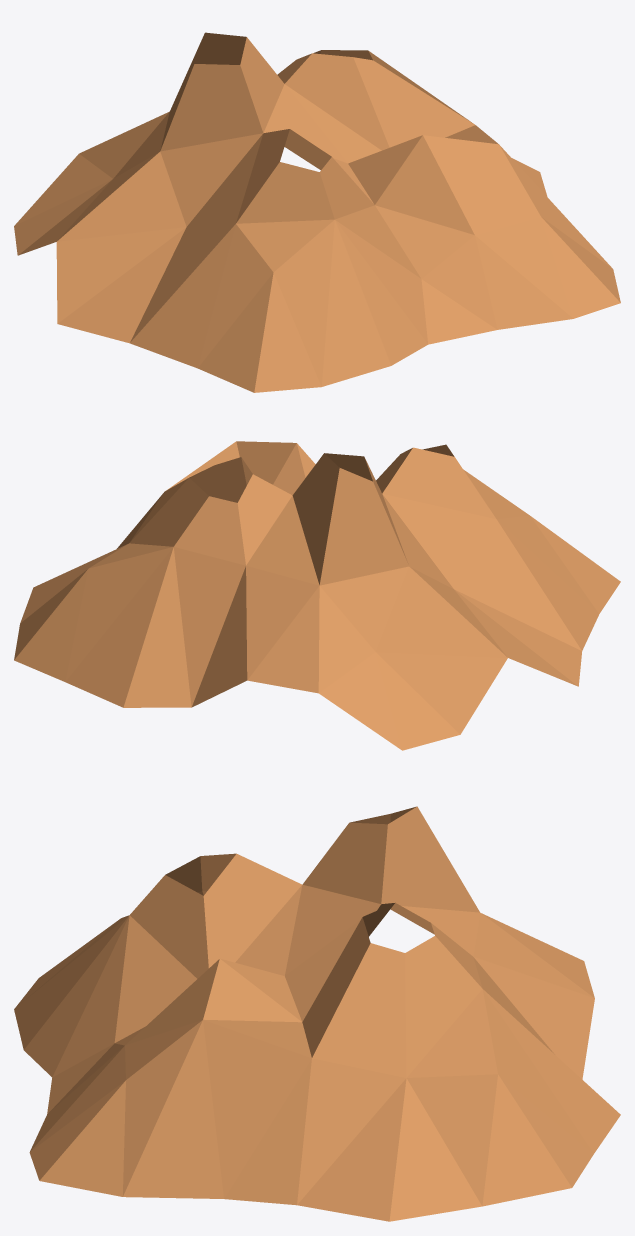
File: Hill02.obj
3 renders of one model, top to bottom at view 1: azimuth 30°, elevation 25°; view 2: azimuth 150°, elevation 25°; view 3: azimuth 270°, elevation 25°, orthographic. The views are drawn at different scales.
Parts seen in each view (by area): view 1: Hill02; view 2: Hill02; view 3: Hill02.
Part boxes in pixels (x1,y1,x2,y2): Hill02: (14,32,620,392); Hill02: (14,441,620,750); Hill02: (14,806,620,1221).
Bounding box in the file's own units: 2.53 × 1.1 × 2.27.
1 material, 1 textured.
